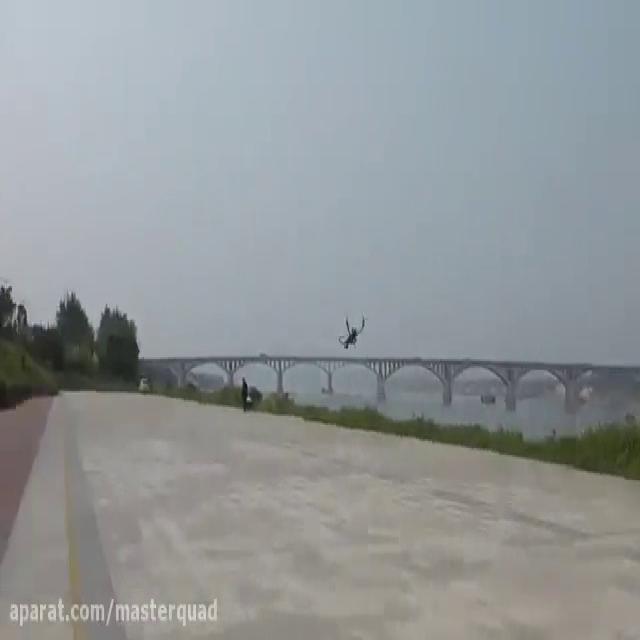drone: (335, 308, 369, 350)
